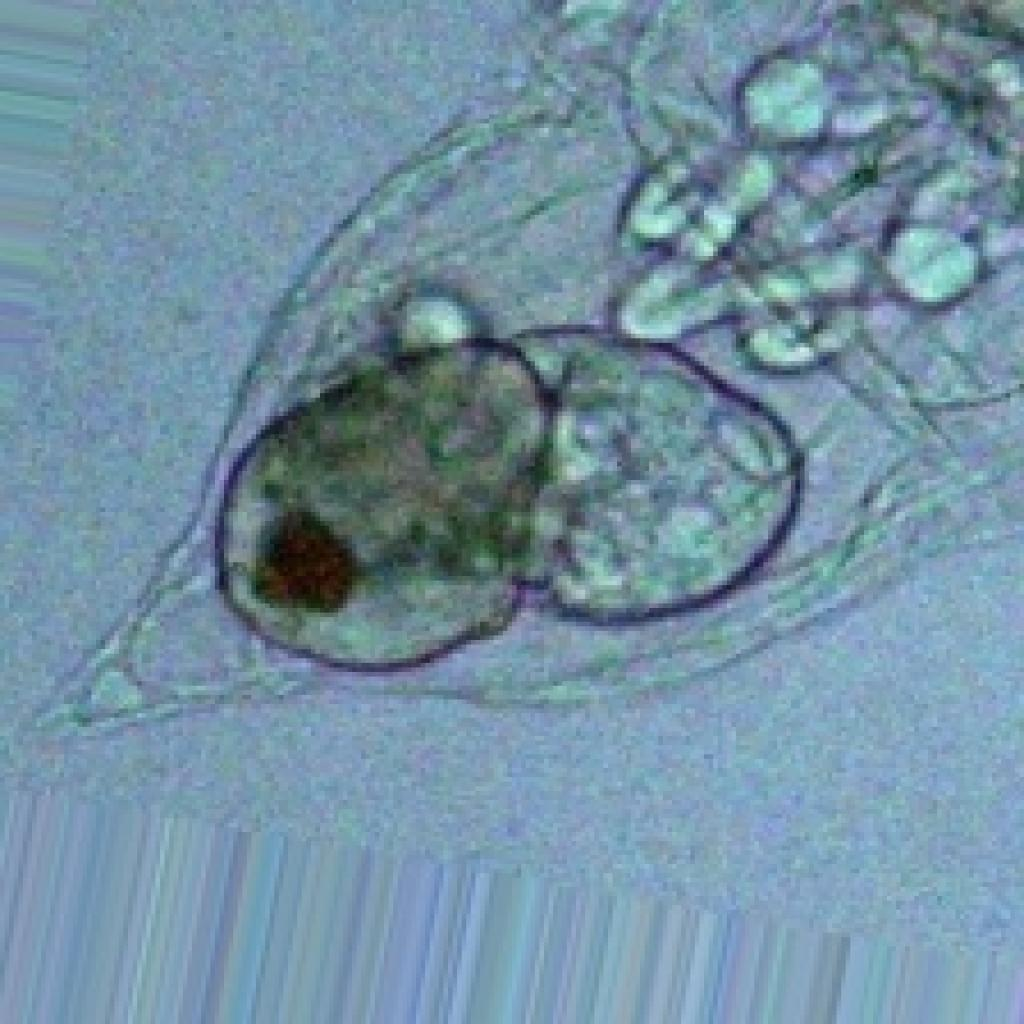Rotifer: (37, 6, 1024, 858)
